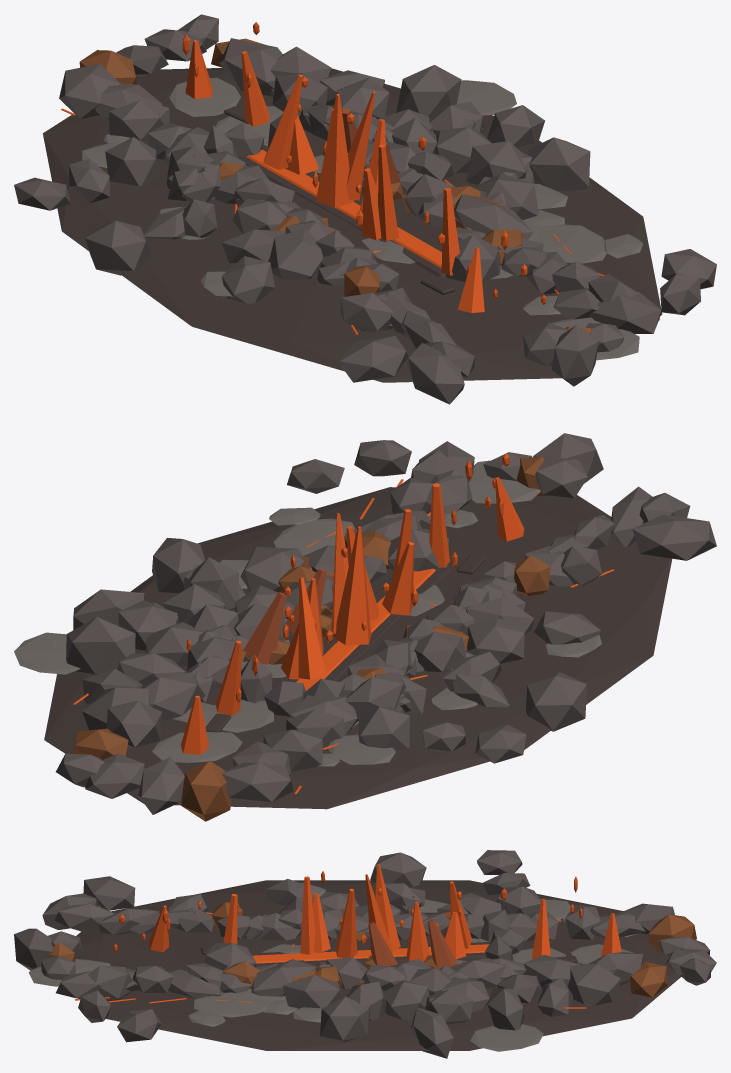
Rendered from FOTF_FlameRift.fbx.
The picture shows the model from 3 angles, top to bottom: view 1: azimuth 30°, elevation 25°; view 2: azimuth 150°, elevation 25°; view 3: azimuth 270°, elevation 25°; orthographic projection. The views are drawn at different scales.
Visible parts, largest first — view 1: ScorchedGround.001, CharredRock_21, CharredRock_12.001, FlameShard_02, CharredRock_00.001, CharredRock_08.001, CharredRock_06.001, CharredRock_06, RiftEdge_L_17, AshPlate_11.001, CharredRock_04.001, EndCapRock_0_1 (+70 smaller); view 2: ScorchedGround.001, CharredRock_08.001, CharredRock_00.001, CharredRock_12.001, FlameShard_02, RiftEdge_L_17, EndCapRock_1_0, CharredRock_21, CharredRock_05, RiftEdge_R_16, CharredRock_04.001, RiftEdge_R_14 (+73 smaller); view 3: ScorchedGround.001, CharredRock_21, CharredRock_03.001, CharredRock_13.001, CharredRock_11.001, AshPlate_04.001, CharredRock_03, RiftEdge_R_06.001, AshPlate_11.001, CharredRock_00.001, CharredRock_12.001, CharredRock_08.001 (+79 smaller).
Boxes of the visible parts, bbox=[...] form: ScorchedGround.001: bbox=[43, 68, 662, 382]; CharredRock_21: bbox=[528, 137, 590, 191]; CharredRock_12.001: bbox=[85, 220, 150, 275]; FlameShard_02: bbox=[316, 94, 353, 207]; CharredRock_00.001: bbox=[340, 335, 408, 382]; CharredRock_08.001: bbox=[396, 65, 461, 117]; CharredRock_06.001: bbox=[407, 343, 464, 404]; CharredRock_06: bbox=[268, 228, 322, 279]; RiftEdge_L_17: bbox=[59, 63, 120, 118]; AshPlate_11.001: bbox=[535, 224, 606, 263]; CharredRock_04.001: bbox=[105, 137, 159, 186]; EndCapRock_0_1: bbox=[552, 325, 598, 386]; ScorchedGround.001: bbox=[44, 487, 672, 809]; CharredRock_08.001: bbox=[66, 617, 135, 674]; CharredRock_00.001: bbox=[632, 514, 716, 560]; CharredRock_12.001: bbox=[526, 672, 586, 731]; FlameShard_02: bbox=[333, 526, 371, 645]; RiftEdge_L_17: bbox=[221, 762, 293, 802]; EndCapRock_1_0: bbox=[181, 760, 231, 821]; CharredRock_21: bbox=[152, 538, 205, 593]; CharredRock_05: bbox=[467, 618, 524, 663]; RiftEdge_R_16: bbox=[106, 701, 162, 747]; CharredRock_04.001: bbox=[358, 706, 409, 751]; RiftEdge_R_14: bbox=[141, 672, 205, 721]; ScorchedGround.001: bbox=[75, 880, 680, 1050]; CharredRock_21: bbox=[320, 996, 368, 1042]; CharredRock_03.001: bbox=[567, 963, 620, 1005]; CharredRock_13.001: bbox=[283, 974, 342, 1009]; CharredRock_11.001: bbox=[411, 1007, 453, 1058]; AshPlate_04.001: bbox=[470, 1024, 543, 1051]; CharredRock_03: bbox=[383, 980, 429, 1019]; RiftEdge_R_06.001: bbox=[251, 959, 315, 996]; AshPlate_11.001: bbox=[194, 992, 270, 1017]; CharredRock_00.001: bbox=[83, 876, 135, 910]; CharredRock_12.001: bbox=[370, 852, 426, 886]; CharredRock_08.001: bbox=[487, 987, 524, 1030].
Size of the model in its own units: 697 by 195 by 1108.
